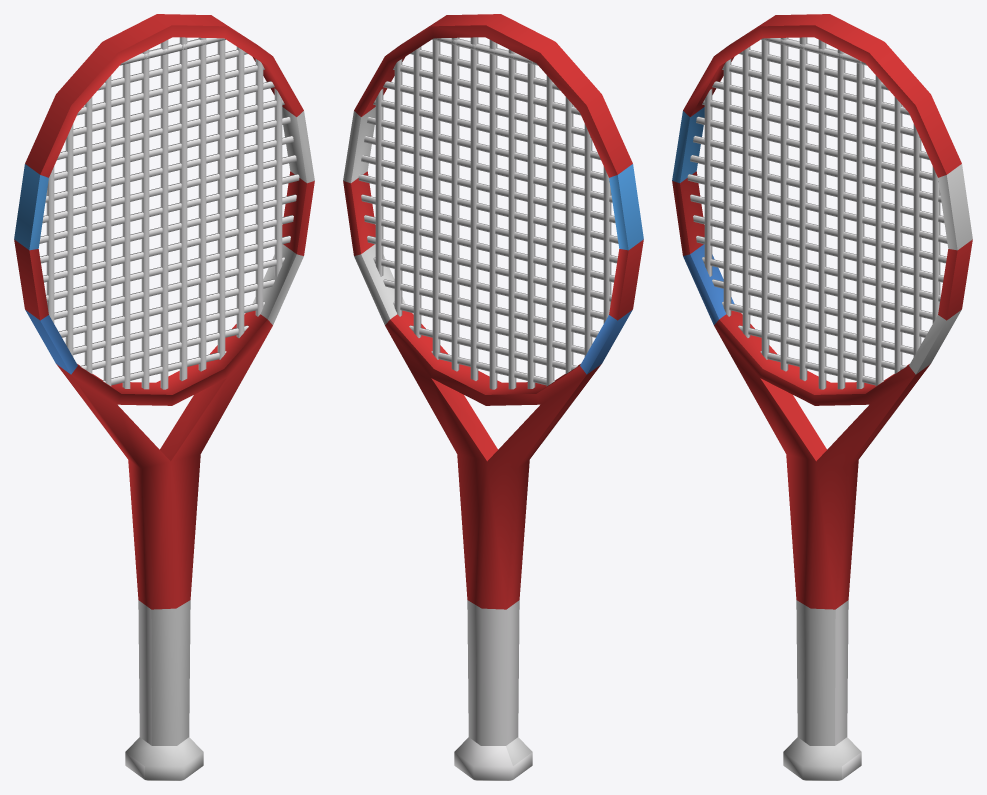
The model's file is SM_tennis_racquet_001.obj.
3 renders of one model, left to right at view 1: azimuth 30°, elevation 25°; view 2: azimuth 150°, elevation 25°; view 3: azimuth 330°, elevation 25°, orthographic.
Visible parts, largest first — view 1: SM_tennis_racquet_001_M_Material; view 2: SM_tennis_racquet_001_M_Material; view 3: SM_tennis_racquet_001_M_Material.
Part boxes in pixels (x1,y1,x2,y2): SM_tennis_racquet_001_M_Material: [14, 14, 314, 780]; SM_tennis_racquet_001_M_Material: [343, 14, 643, 780]; SM_tennis_racquet_001_M_Material: [672, 14, 972, 780].
Bounding box in the file's own units: 0.3468 × 0.8703 × 0.0825.
Materials: 1 (1 with a texture image).
